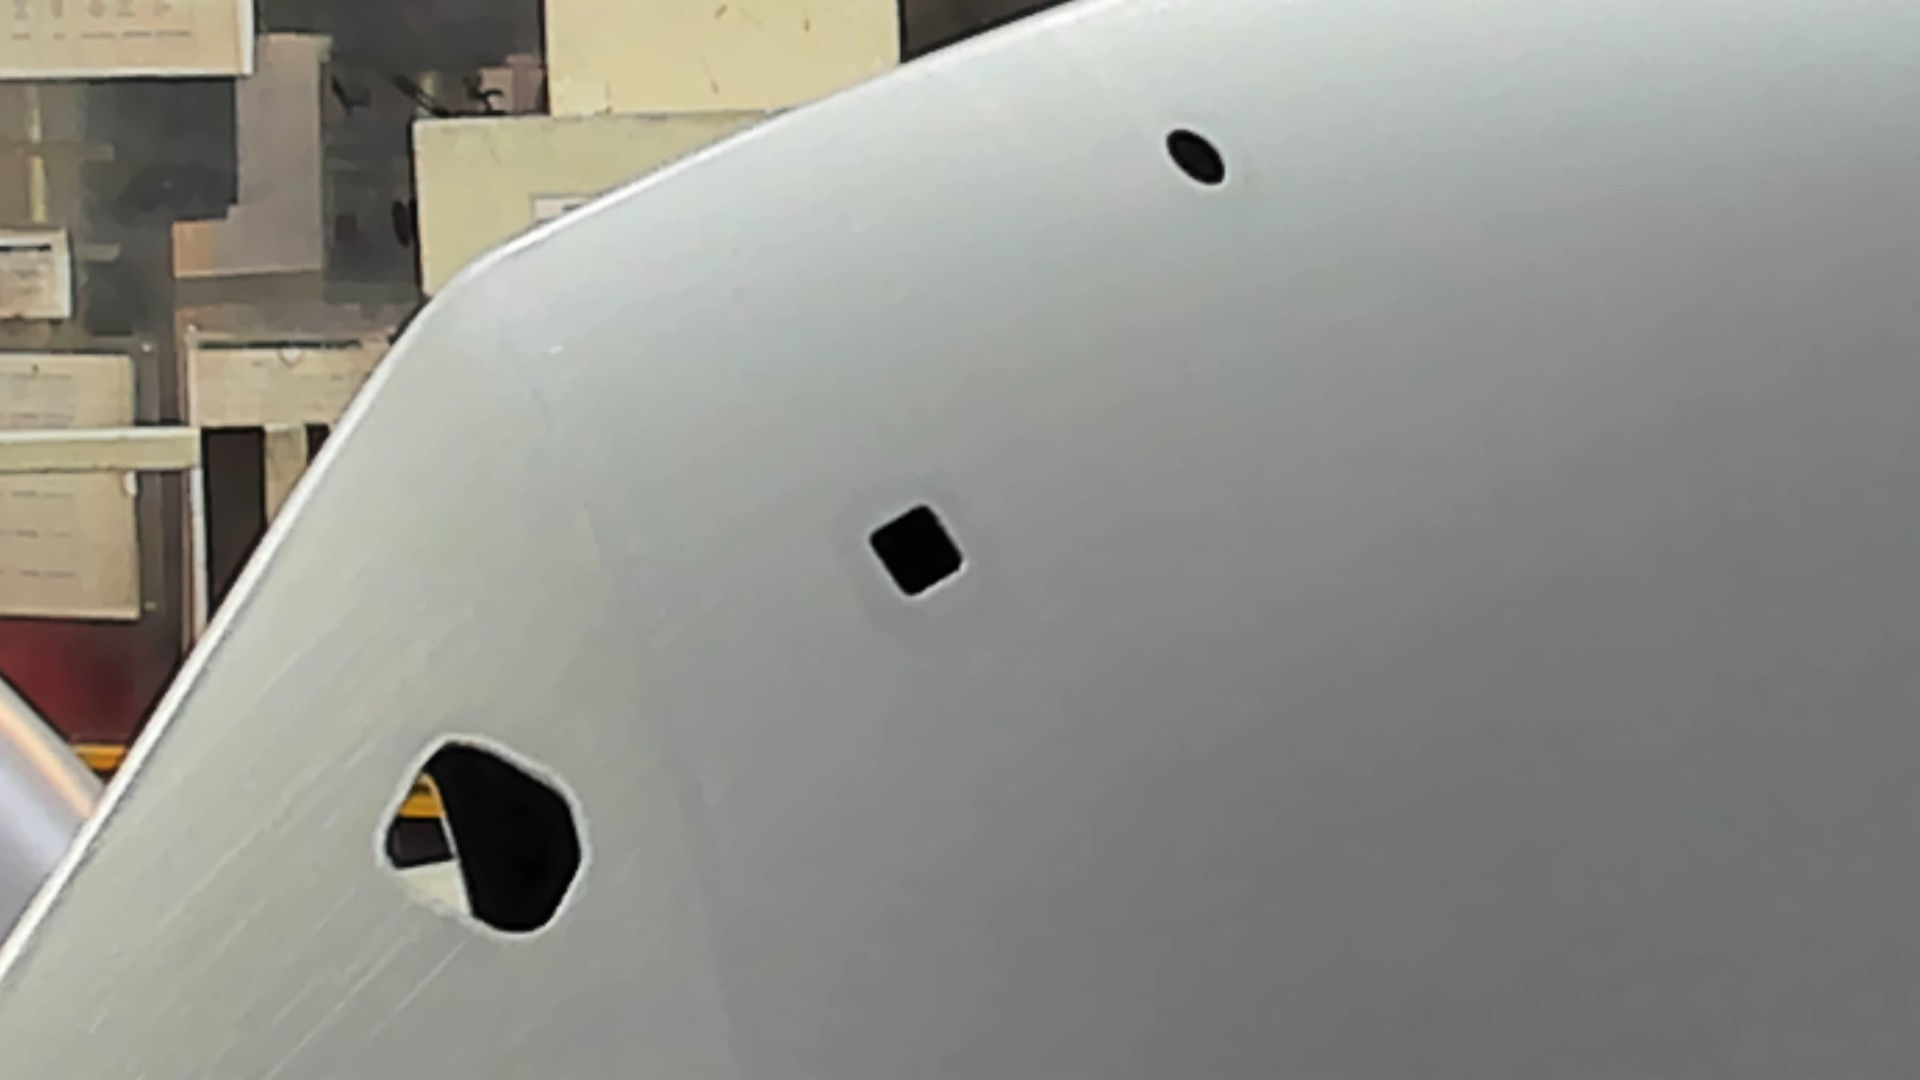chico: (1159, 123, 1232, 190)
grande: (375, 735, 595, 945)
mediano: (861, 498, 973, 601)
